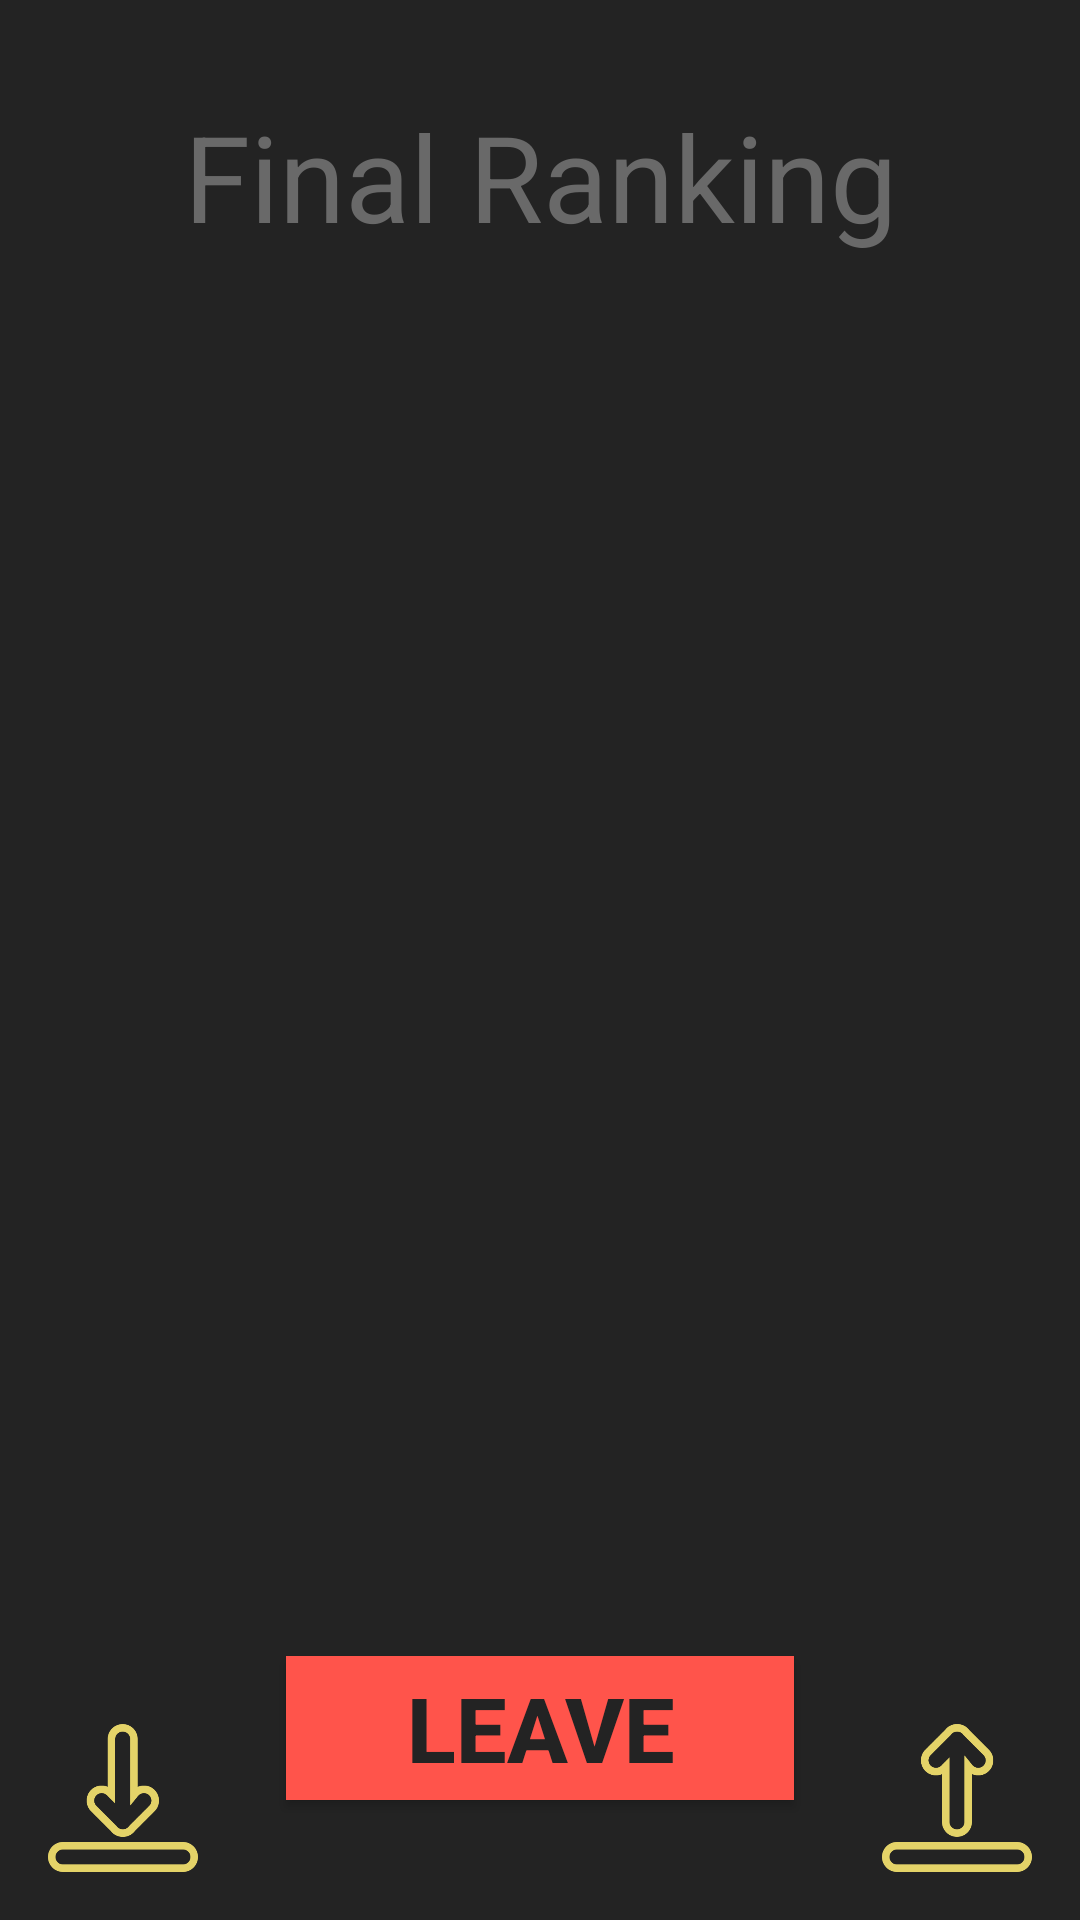

Icons on this 1080w x 1920h Android screen, each with the point to tap as point (x, y):
save: point (123, 1798)
share: point (957, 1798)
